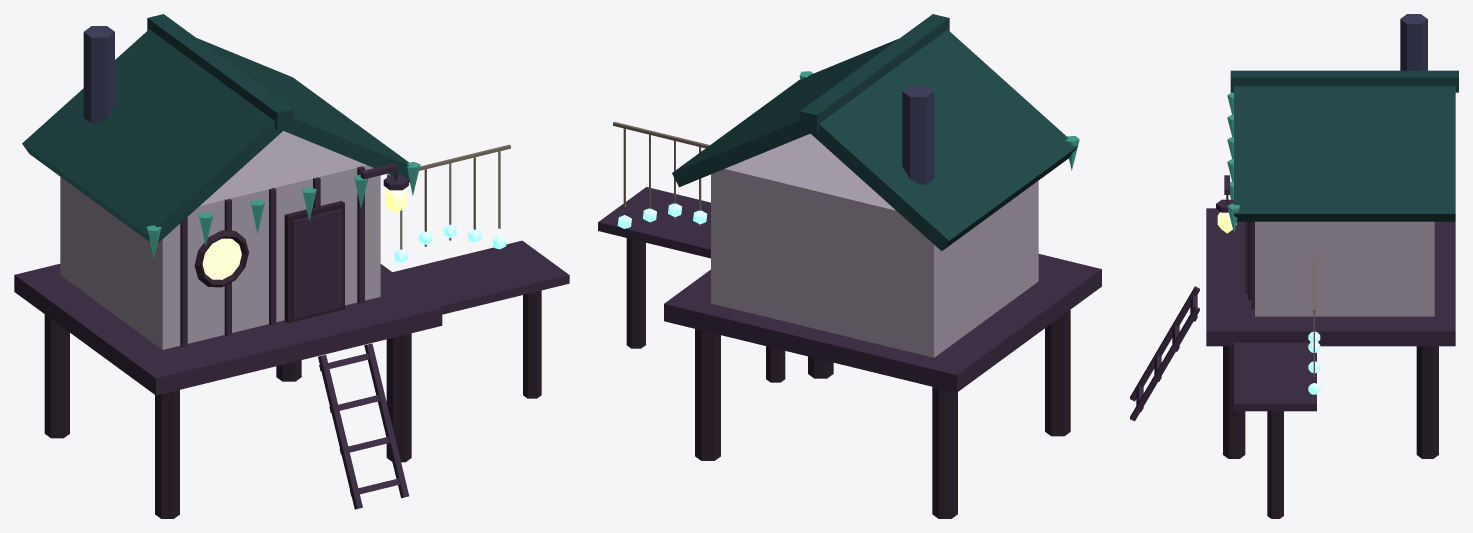
The model's file is maison_pilotis_modele.glb.
3 views of the same model, side by side, from view 1: azimuth 30°, elevation 25°; view 2: azimuth 150°, elevation 25°; view 3: azimuth 270°, elevation 25° (orthographic). The views are drawn at different scales.
Parts seen in each view (by area): view 1: P6.008, P12.010, P5.001, P31.004, P13.009, P22.007, P14.010, P1.007, P2.007, P49.002, P3.001, P33.004 (+9 smaller); view 2: P6.008, P12.010, P5.001, P13.009, P31.004, P14.010, P2.007, P4.008, P49.002, P1.007, P33.004, P32.004; view 3: P13.009, P6.008, P5.001, P31.004, P14.010, P4.008, P33.004, P3.001, P49.002, P26.008, P25.006.
Part boxes in pixels (x1,y1,x2,y2): P6.008: [60, 131, 380, 349]; P12.010: [22, 29, 285, 242]; P5.001: [14, 264, 442, 395]; P31.004: [392, 240, 569, 314]; P13.009: [197, 38, 409, 182]; P22.007: [292, 209, 342, 318]; P14.010: [147, 14, 293, 129]; P1.007: [155, 390, 179, 518]; P2.007: [44, 314, 69, 438]; P49.002: [83, 26, 114, 123]; P3.001: [386, 333, 411, 462]; P33.004: [523, 290, 541, 398]; P6.008: [711, 133, 1038, 357]; P12.010: [807, 29, 1077, 251]; P5.001: [664, 254, 1101, 392]; P13.009: [672, 38, 898, 187]; P31.004: [598, 187, 710, 258]; P14.010: [800, 14, 949, 132]; P2.007: [932, 387, 957, 518]; P4.008: [695, 329, 720, 460]; P49.002: [902, 85, 934, 184]; P1.007: [1045, 310, 1070, 436]; P33.004: [626, 238, 645, 348]; P32.004: [766, 346, 785, 382]; P13.009: [1234, 86, 1455, 221]; P6.008: [1255, 221, 1434, 316]; P5.001: [1206, 208, 1455, 346]; P31.004: [1234, 342, 1316, 411]; P14.010: [1230, 70, 1458, 92]; P4.008: [1416, 346, 1438, 458]; P33.004: [1267, 411, 1283, 518]; P3.001: [1223, 346, 1245, 458]; P49.002: [1400, 14, 1427, 70]; P26.008: [1130, 306, 1199, 421]; P25.006: [1130, 286, 1199, 401].
Size of the model in its own units: 3.15 by 2.8 by 2.38.
